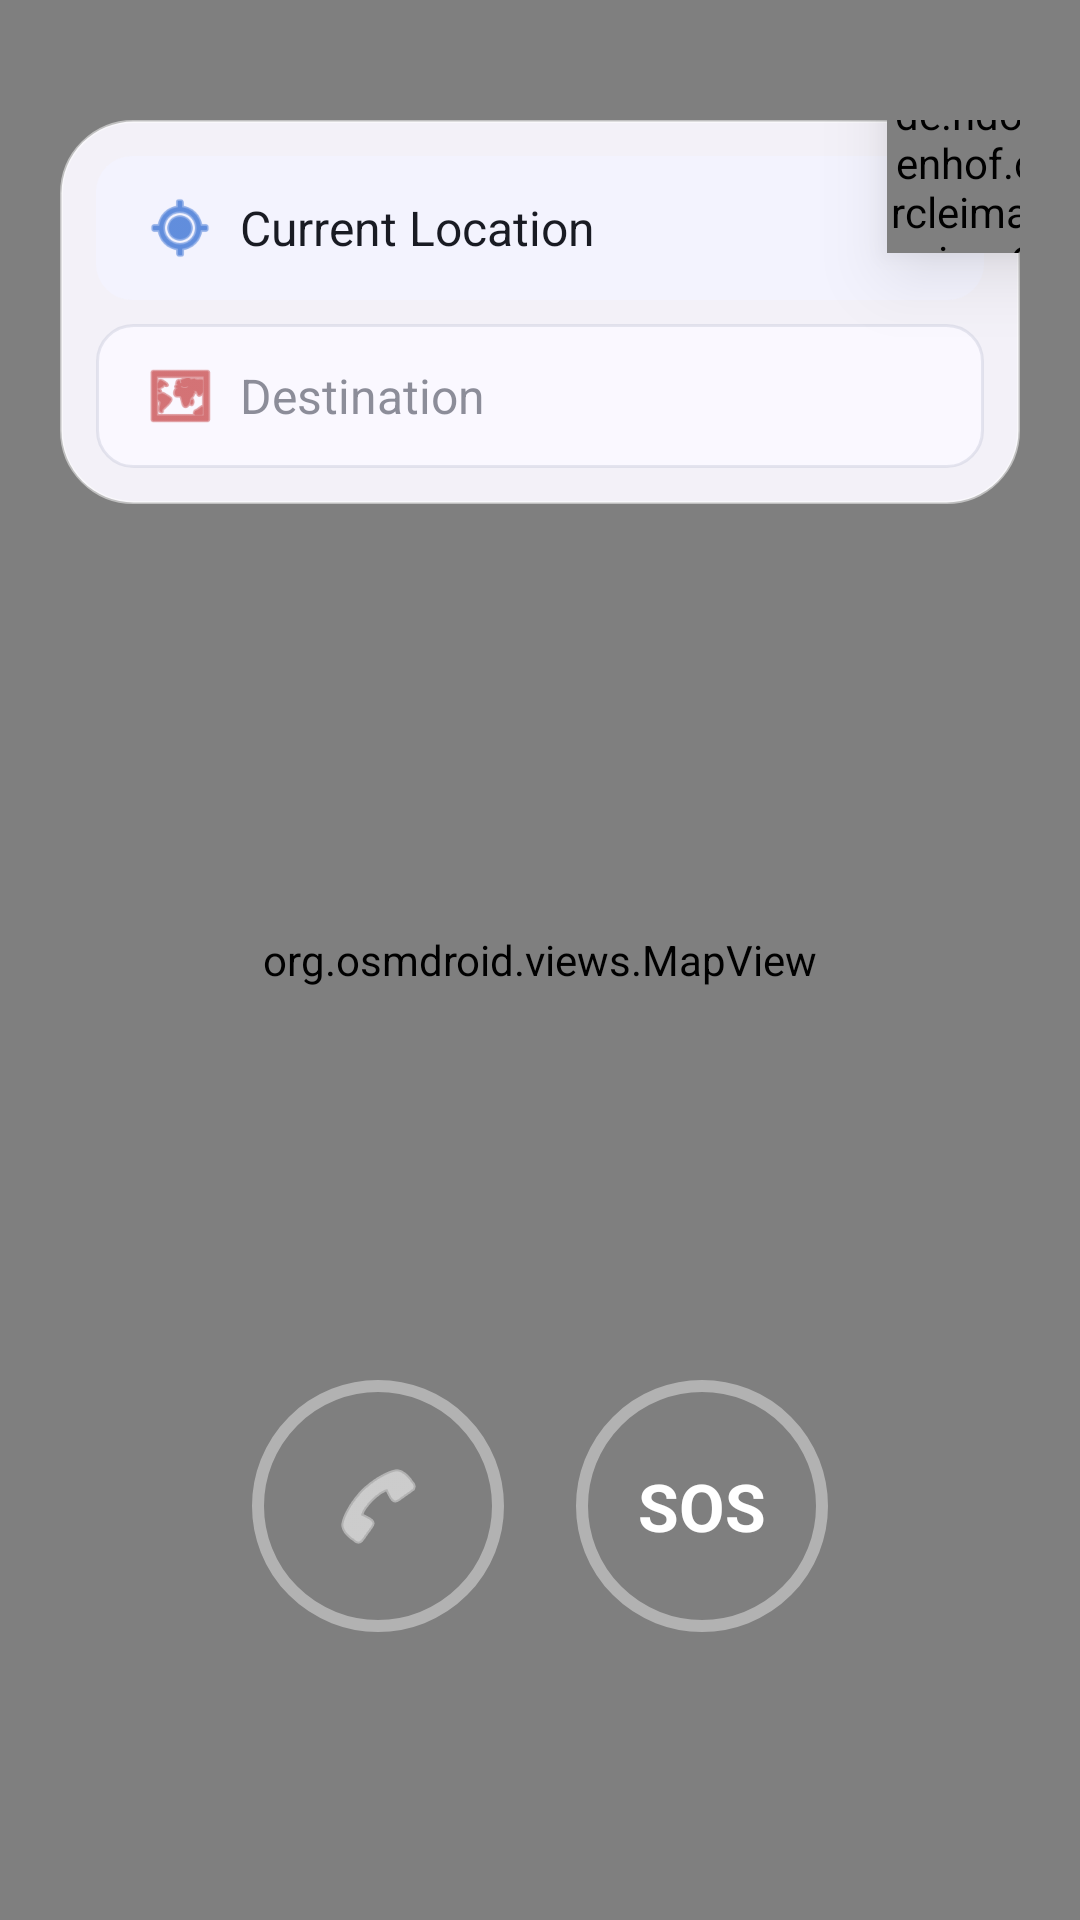

Locate icon controls on the screen. Image size 1080*1920, boxes as (x1, y1, x2, y2).
My Location: (151, 199, 209, 257)
